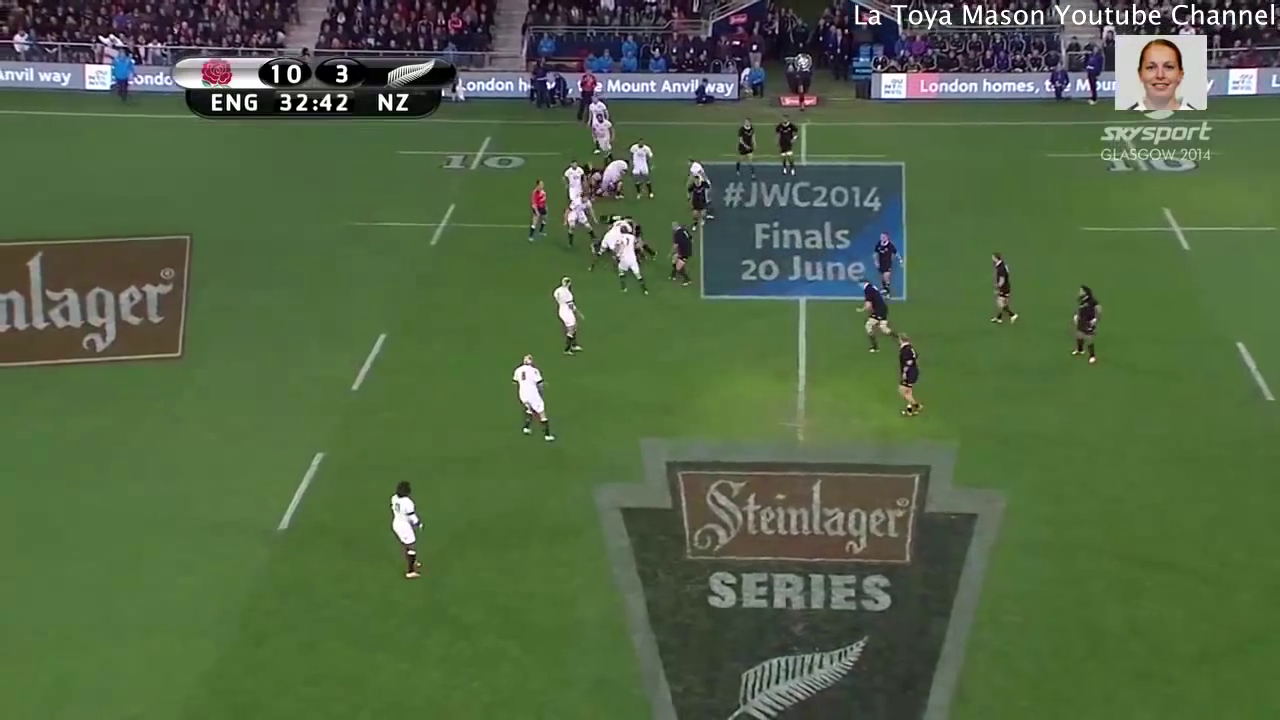10_metre: (1078, 204, 1280, 254), (346, 202, 547, 250), (1041, 135, 1234, 173), (389, 134, 567, 174)
maul: (593, 211, 659, 265)
player: (373, 474, 448, 587), (505, 347, 560, 451), (548, 265, 595, 355), (1063, 279, 1107, 371), (844, 271, 892, 351), (891, 333, 928, 415), (726, 111, 764, 187), (984, 247, 1019, 328), (661, 214, 698, 287), (613, 223, 650, 294), (870, 229, 905, 300), (770, 111, 807, 177), (680, 169, 716, 226), (626, 136, 656, 200), (565, 190, 595, 244), (521, 174, 546, 235), (589, 111, 617, 158), (601, 154, 629, 195), (561, 159, 584, 196), (680, 153, 708, 182), (583, 92, 606, 114)
